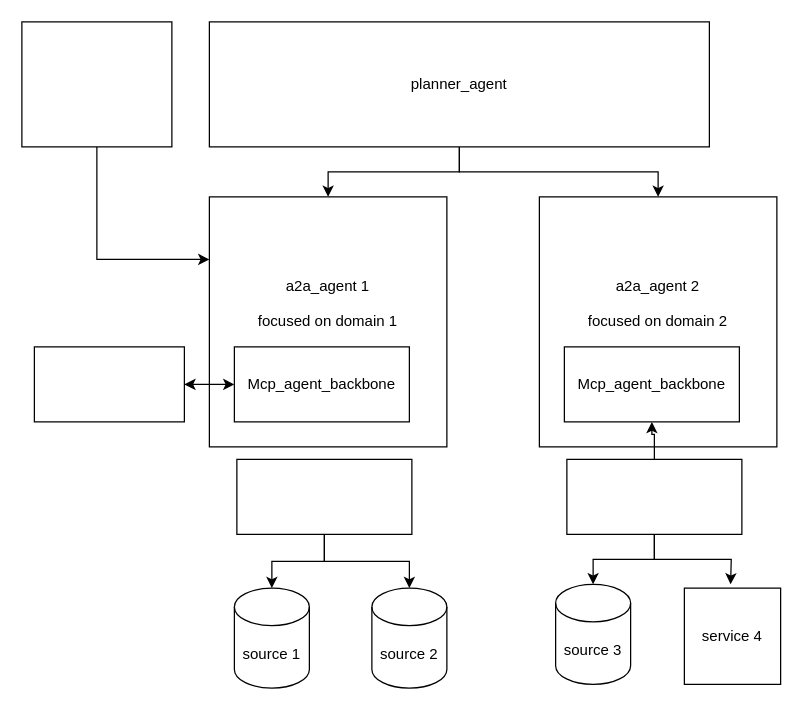
This 803x710 diagram has some shape labels left out. Here are the shapes that lost their labels. From the top down, the centre of each, then its label:
At (x=96, y=84): "a2a_client".
At (x=108, y=384): "mcp_agent_endpoint".
At (x=324, y=496): "mcp_server 1".
At (x=654, y=496): "mcp_server 2".
